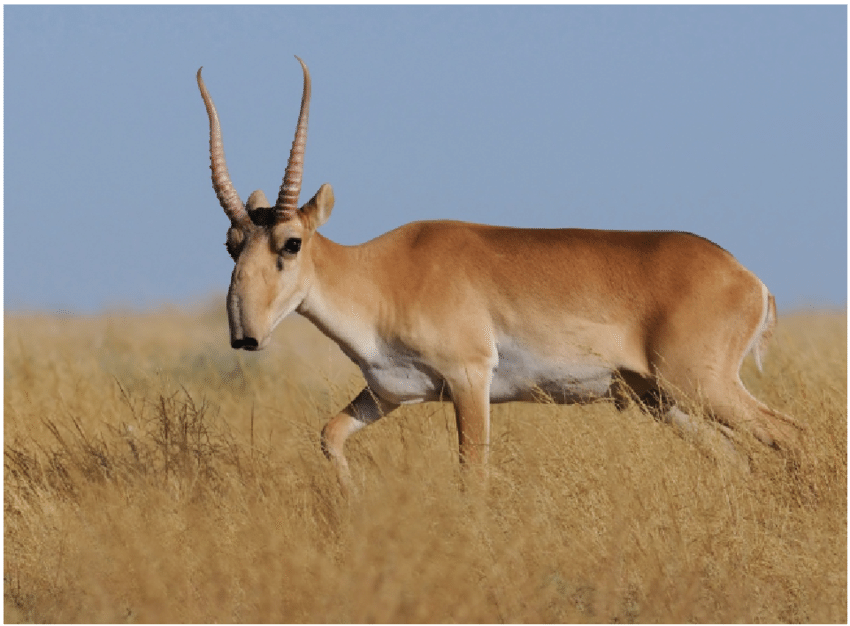saiga: (195, 52, 819, 536)
